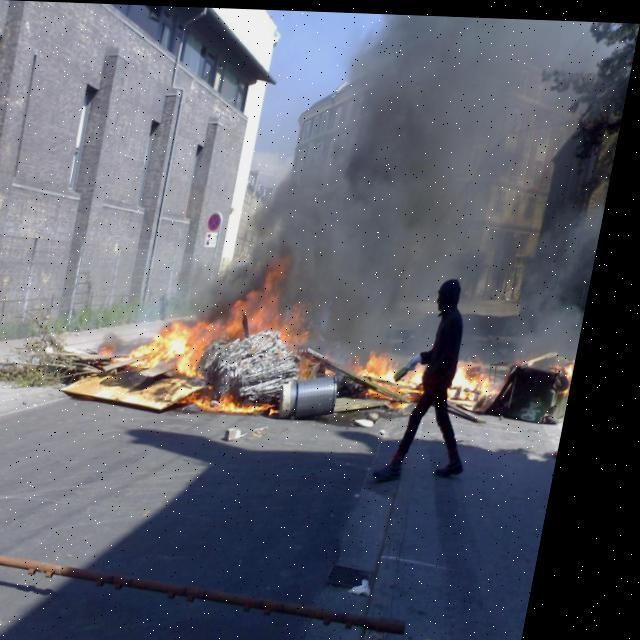Fire: (125, 245, 530, 406)
